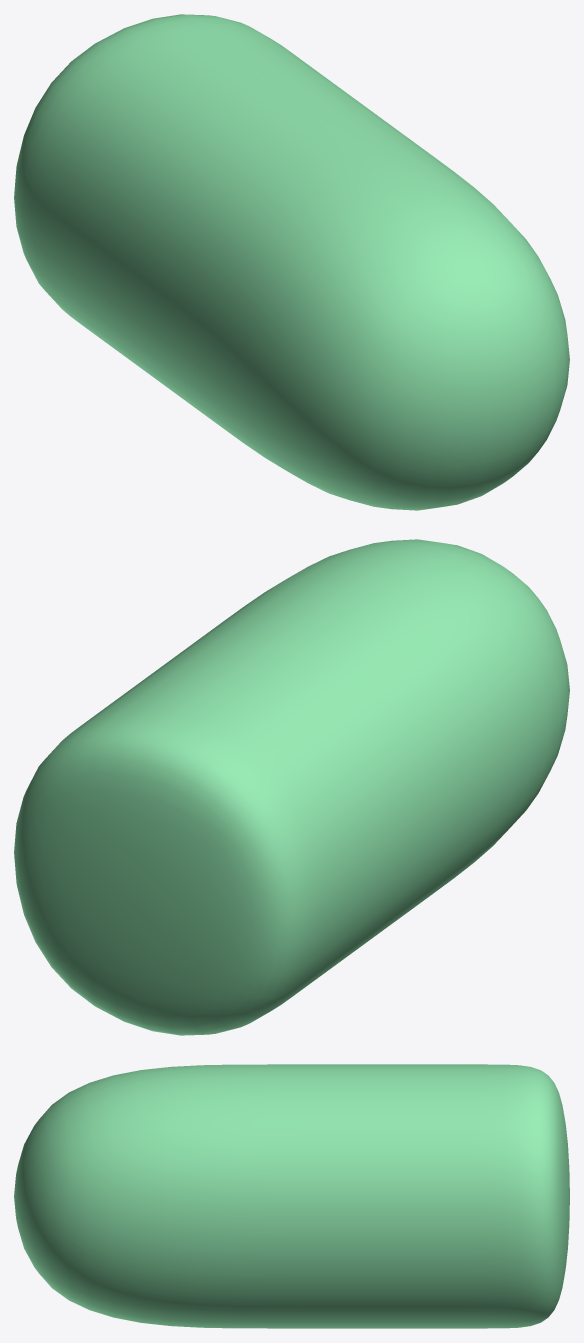
The model's file is snake_body1.fbx.
3 views of the same model, one above another, from view 1: azimuth 30°, elevation 25°; view 2: azimuth 150°, elevation 25°; view 3: azimuth 270°, elevation 25° (orthographic). The views are drawn at different scales.
Parts seen in each view (by area): view 1: 立方体.001; view 2: 立方体.001; view 3: 立方体.001.
Boxes of the visible parts, left/top/right/bottom form: 立方体.001: left=14, top=14, right=569, bottom=510; 立方体.001: left=14, top=539, right=569, bottom=1035; 立方体.001: left=14, top=1064, right=569, bottom=1328.
Bounding box in the file's own units: 52.96 × 52.96 × 113.
